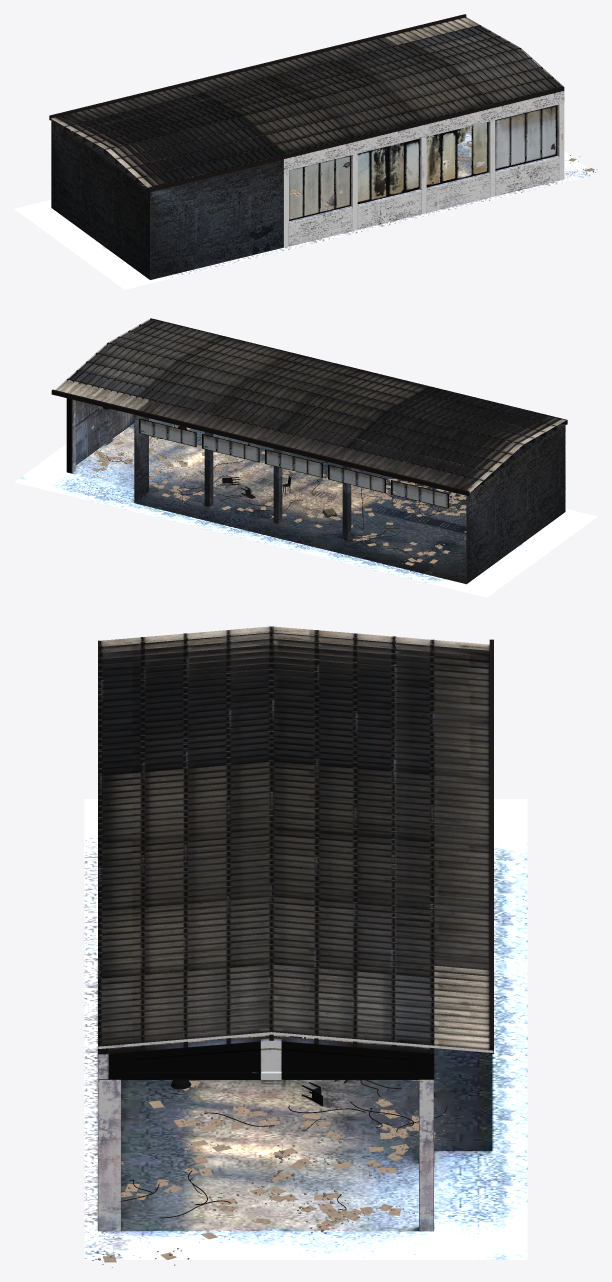
The model's file is abandoned_warehouse_-_interior_scene (1).glb.
The picture shows the model from 3 angles, top to bottom: view 1: azimuth 30°, elevation 25°; view 2: azimuth 150°, elevation 25°; view 3: azimuth 270°, elevation 25°; orthographic projection. The views are drawn at different scales.
Visible parts, largest first — view 1: Plane.001, Plane.006, Plane.005, Plane.004, Cube, Plane, Cube.002, Cube.005, TexturesCom_WindowsBacklit0019_15_M, TexturesCom_WindowsBacklit0019_13_M, TexturesCom_WindowsBacklit0019_12_M, TexturesCom_WindowsBacklit0019_14_M (+4 smaller); view 2: Plane, Plane.006, Plane.001, Plane.004, TexturesCom_WindowsBacklit0019_13_M.002, TexturesCom_CardboardPlain0019_2_alphamasked_S.049, Cube.003, Cube.008, Cube.005, Cube.006, Icosphere.1295, Plane.002 (+4 smaller); view 3: Plane.006, Plane, Plane.001, Cube.004, TexturesCom_CardboardPlain0019_2_alphamasked_S.049, Cube.001, Cube.005, Cube.006, Cube.003, Cube.008, Icosphere.1295, BezierCurve.033.
Part boxes in pixels (<box>): Plane.001: <box>105,48,562,188</box>; Plane.006: <box>51,17,520,149</box>; Plane.005: <box>150,159,283,279</box>; Plane.004: <box>51,120,150,279</box>; Cube: <box>289,155,559,246</box>; Plane: <box>14,126,596,289</box>; Cube.002: <box>283,91,564,171</box>; Cube.005: <box>104,48,564,192</box>; TexturesCom_WindowsBacklit0019_15_M: <box>357,138,419,204</box>; TexturesCom_WindowsBacklit0019_13_M: <box>495,105,557,170</box>; TexturesCom_WindowsBacklit0019_12_M: <box>289,155,350,220</box>; TexturesCom_WindowsBacklit0019_14_M: <box>426,122,488,187</box>; Plane: <box>14,418,597,597</box>; Plane.006: <box>55,343,523,492</box>; Plane.001: <box>108,318,566,444</box>; Plane.004: <box>466,424,565,584</box>; TexturesCom_WindowsBacklit0019_13_M.002: <box>139,418,448,508</box>; TexturesCom_CardboardPlain0019_2_alphamasked_S.049: <box>91,425,466,565</box>; Cube.003: <box>66,398,351,540</box>; Cube.008: <box>51,389,469,495</box>; Cube.005: <box>107,318,567,449</box>; Cube.006: <box>66,352,513,485</box>; Icosphere.1295: <box>89,425,466,566</box>; Plane.002: <box>134,408,148,502</box>; Plane.006: <box>271,626,493,1052</box>; Plane: <box>84,799,527,1259</box>; Plane.001: <box>98,626,271,1048</box>; Cube.004: <box>109,1036,434,1079</box>; TexturesCom_CardboardPlain0019_2_alphamasked_S.049: <box>103,1035,435,1262</box>; Cube.001: <box>98,1047,121,1231</box>; Cube.005: <box>98,626,273,1054</box>; Cube.006: <box>314,630,434,1053</box>; Cube.003: <box>419,1047,433,1231</box>; Cube.008: <box>489,639,493,1053</box>; Icosphere.1295: <box>91,1036,445,1267</box>; BezierCurve.033: <box>121,1039,447,1218</box>.
Size of what is drawn, in the model's own units: 33.74 by 6.73 by 13.48.
Materials: 33 (24 with a texture image).
